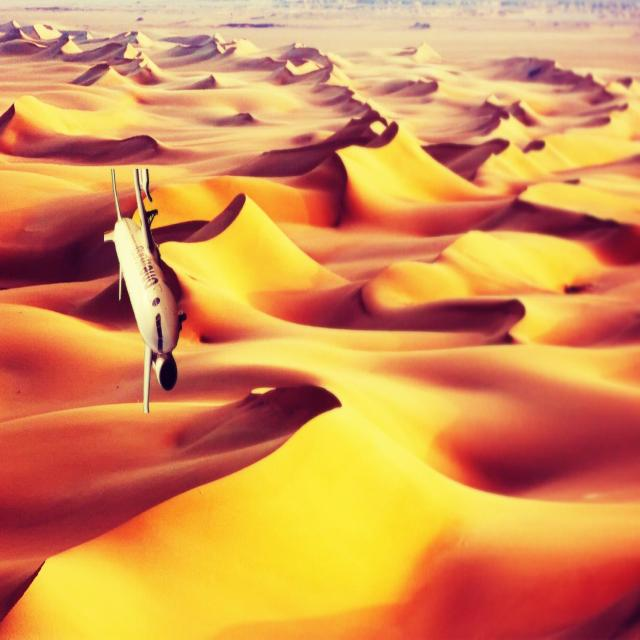airplane: (102, 164, 188, 413)
